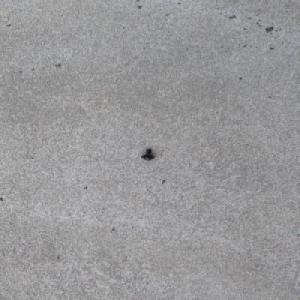BoltWasher: (140, 148, 155, 160)
